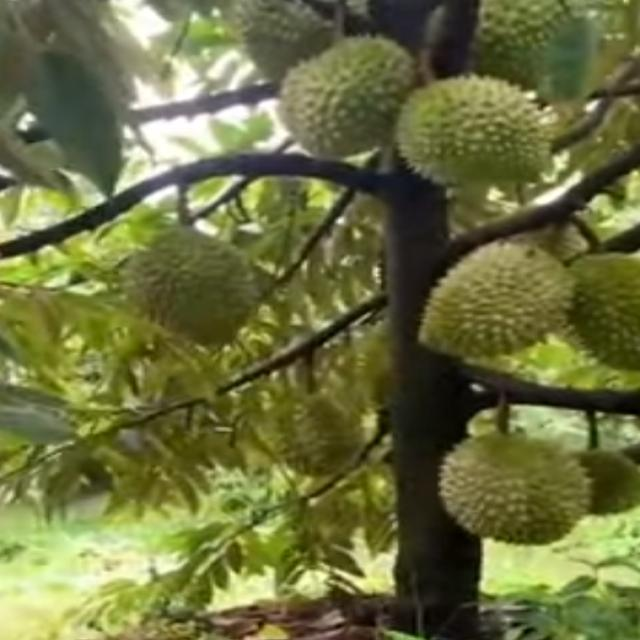immature: (384, 69, 557, 187), (429, 430, 596, 548), (420, 240, 575, 356), (274, 28, 408, 156), (130, 222, 259, 346)
